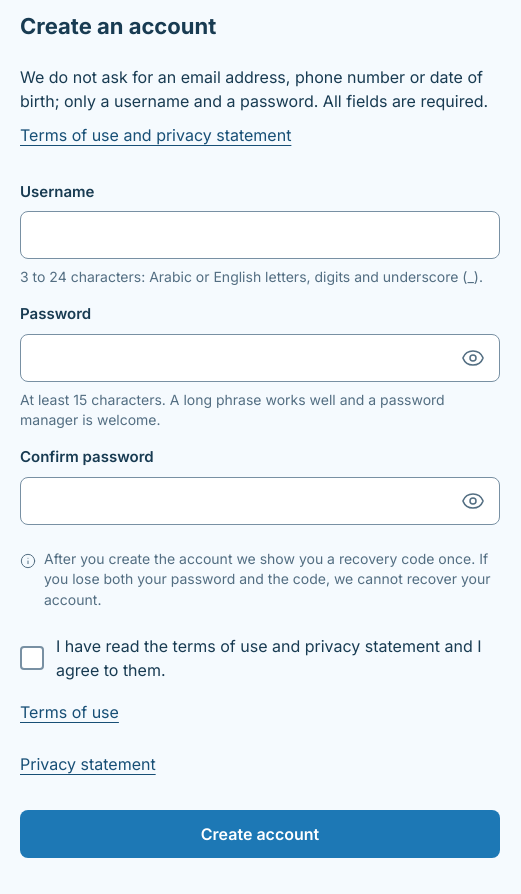
Test: validation on submit (P-03, S-02 sections 3 and 4) › words the summary and the messages in English with Western digits
Click the button "Create account" at [260, 834], box [20, 810, 500, 858]
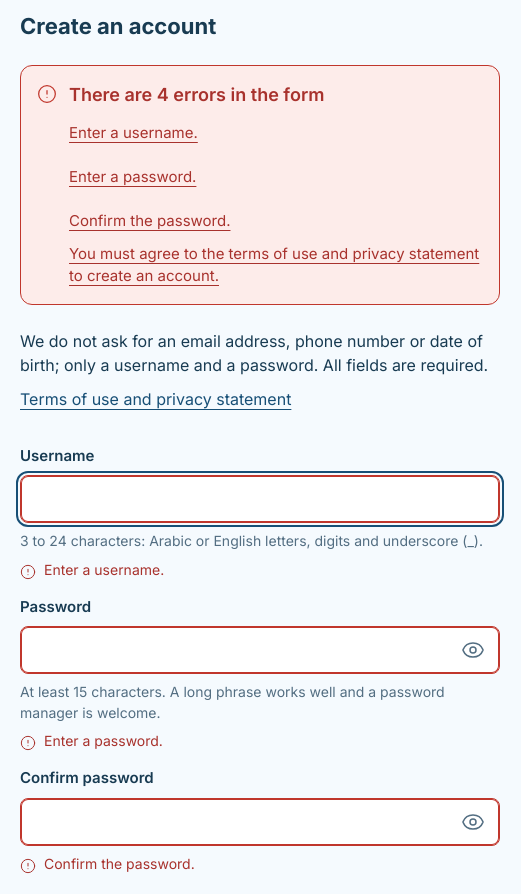
Expected: the message shows "There are 4 errors in the form", [69, 84, 324, 105]
Expected: the link "Enter a username." is shown, [69, 122, 198, 142]
Expected: the link "Enter a password." is shown, [69, 166, 196, 186]
